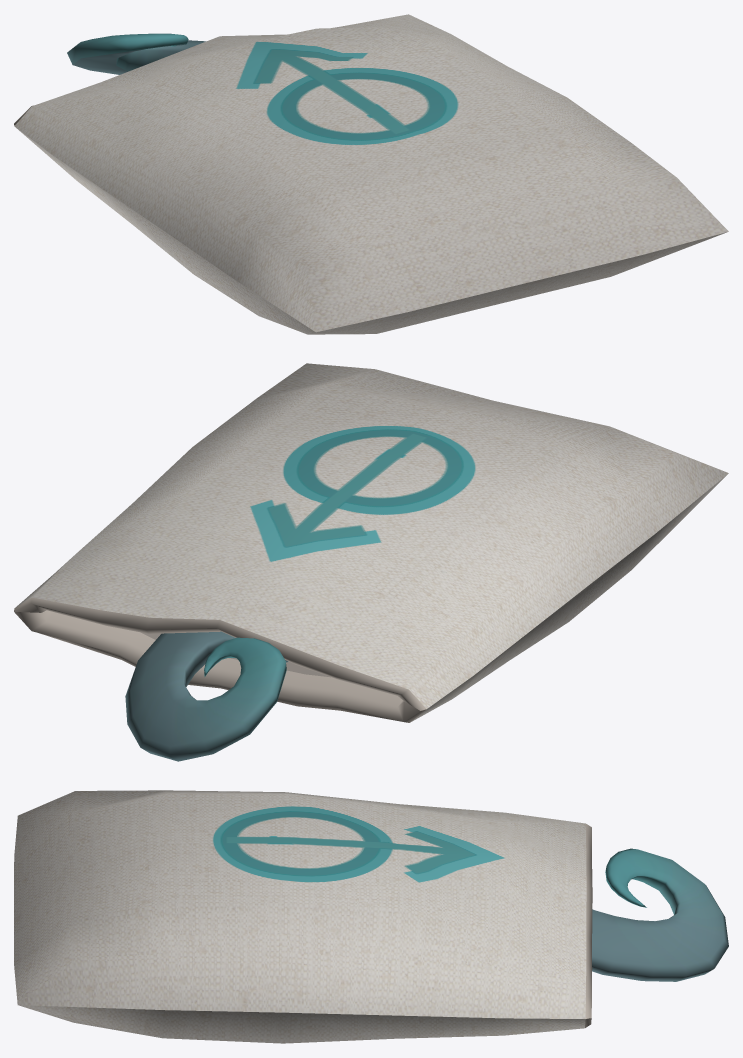
File: Icarus_SeedBag.fbx
3 views of the same model, one above another, from view 1: azimuth 30°, elevation 25°; view 2: azimuth 150°, elevation 25°; view 3: azimuth 270°, elevation 25° (orthographic). The views are drawn at different scales.
Parts seen in each view (by area): view 1: Icarus_Seedbag; view 2: Icarus_Seedbag; view 3: Icarus_Seedbag.
Part boxes in pixels (bbox=[...]): Icarus_Seedbag: bbox=[14, 14, 728, 334]; Icarus_Seedbag: bbox=[14, 363, 728, 761]; Icarus_Seedbag: bbox=[14, 790, 728, 1043].
Size of the model in its own units: 41.04 by 14.63 by 64.52.
1 material, 1 textured.
